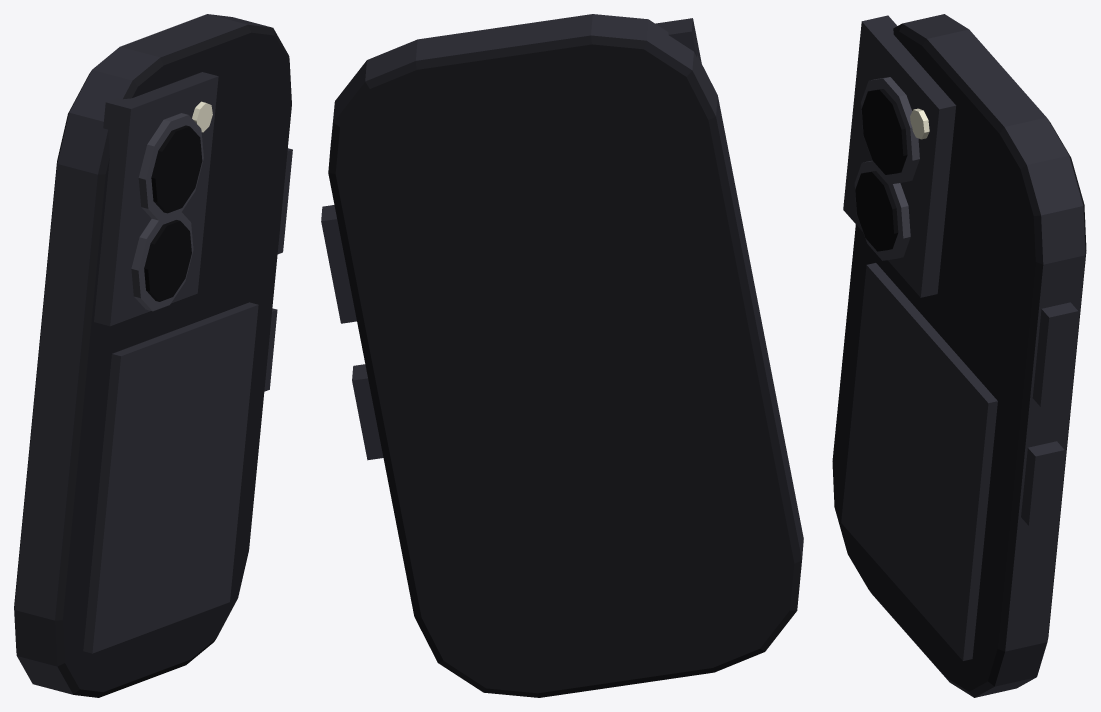
File: BusinessDad_Props.fbx
3 views of the same model, side by side, from view 1: azimuth 30°, elevation 25°; view 2: azimuth 150°, elevation 25°; view 3: azimuth 270°, elevation 25° (orthographic). The views are drawn at different scales.
Visible parts, largest first — view 1: Phone_Geo.001; view 2: Phone_Geo.001; view 3: Phone_Geo.001.
Part boxes in pixels (<box>): Phone_Geo.001: <box>14,14,292,697</box>; Phone_Geo.001: <box>321,14,803,697</box>; Phone_Geo.001: <box>832,14,1086,697</box>.
Size of the model in its own units: 0.7045 by 1.15 by 0.4239.
1 material, 1 textured.
